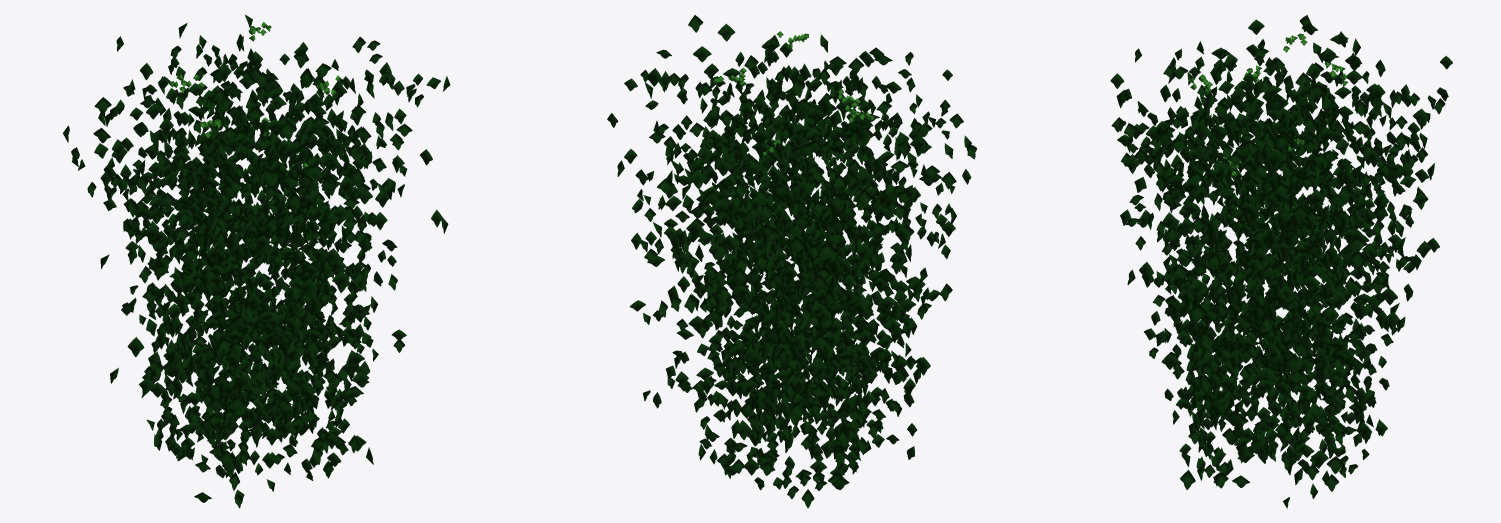
File: Shrub_Viburnum.glb
The picture shows the model from 3 angles, left to right: view 1: azimuth 30°, elevation 25°; view 2: azimuth 150°, elevation 25°; view 3: azimuth 270°, elevation 25°; orthographic projection. The views are drawn at different scales.
Visible parts, largest first — view 1: Shrub_Viburnum; view 2: Shrub_Viburnum; view 3: Shrub_Viburnum.
Boxes of the visible parts, bbox=[...] form: Shrub_Viburnum: bbox=[63, 14, 450, 508]; Shrub_Viburnum: bbox=[607, 15, 977, 508]; Shrub_Viburnum: bbox=[1110, 15, 1452, 508].
Bounding box in the file's own units: 2.2 × 2.44 × 2.25.
Materials: 1 (1 with a texture image).
